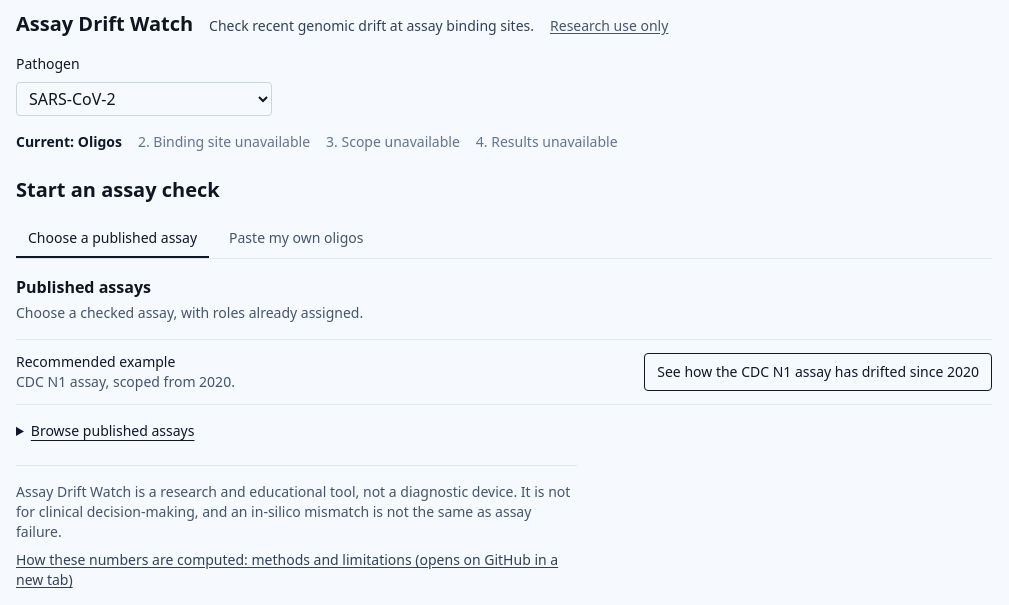
Test: App empty scope › reports a scope that matched no sequences instead of an empty results panel
What coordinates should you click on to do the following:
click the button "See how the CDC N1 assay has drifted since 2020"
I would click on:
 (818, 372)
Its box is [644,353,992,391].
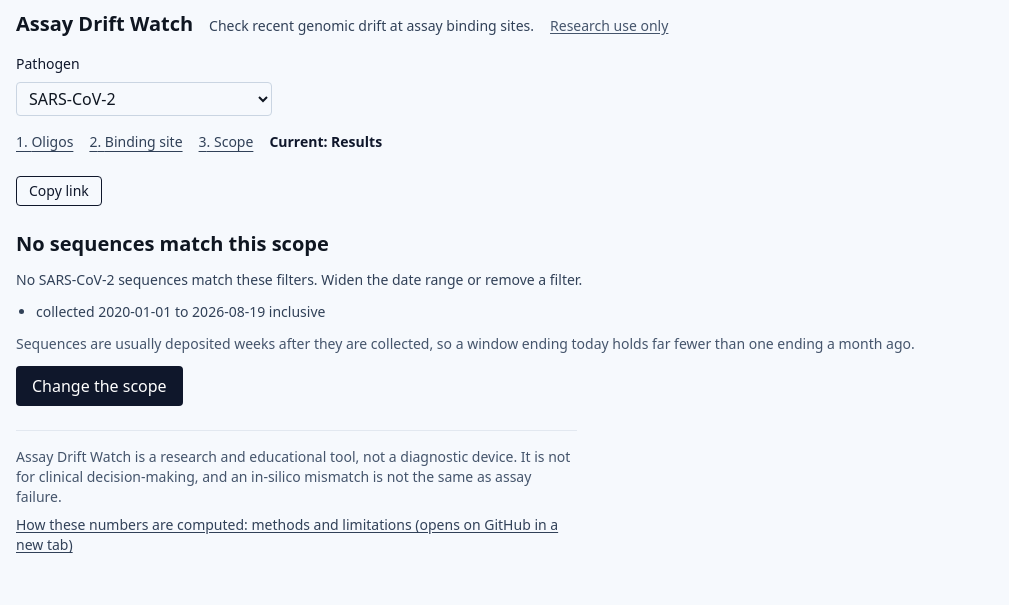
Expected: the text "No SARS-CoV-2 sequences match these filters" is shown, [16,270,582,289]
Expected: the list item "collected 2020-01-01 to 2026-08-19 inclusive" is shown, [36,302,325,322]
